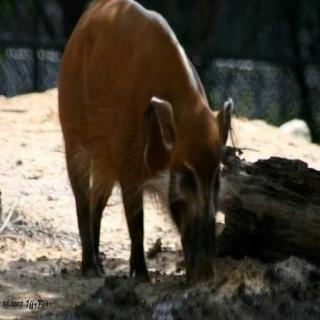Pig: (69, 0, 240, 296)
